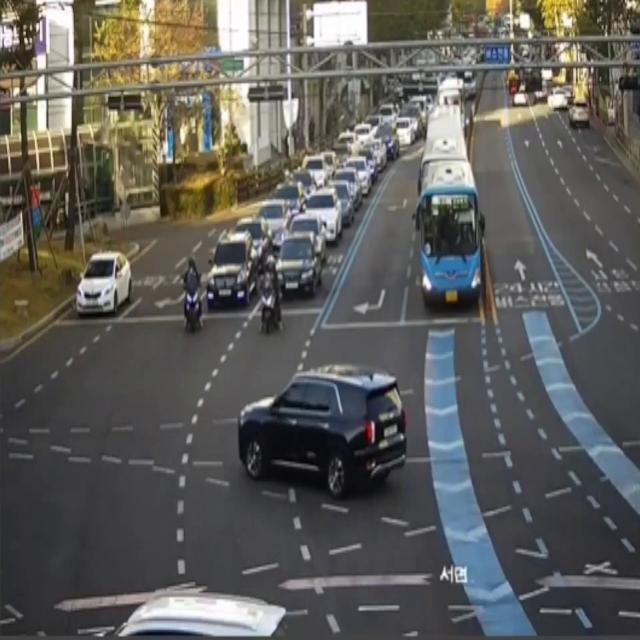bus: (175, 251, 205, 338), (259, 239, 283, 340)
car: (418, 144, 491, 319), (422, 90, 469, 174), (430, 68, 466, 119)
motorcycle: (230, 355, 423, 511), (87, 590, 318, 640), (70, 247, 140, 319), (206, 228, 257, 323), (275, 227, 320, 301), (301, 183, 343, 236), (287, 211, 331, 254), (323, 178, 356, 226), (352, 138, 389, 178), (268, 170, 302, 212), (334, 162, 360, 215), (260, 193, 290, 234), (344, 156, 374, 191), (234, 221, 276, 245), (568, 90, 590, 130), (299, 152, 326, 184), (553, 85, 573, 124)
